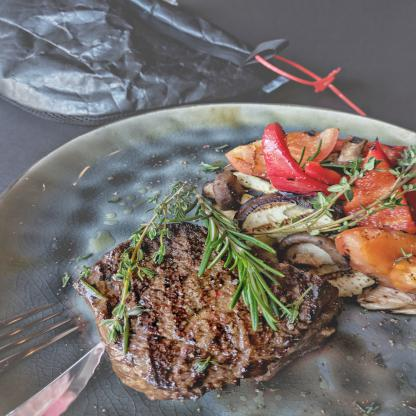Carne: (81, 219, 337, 401)
